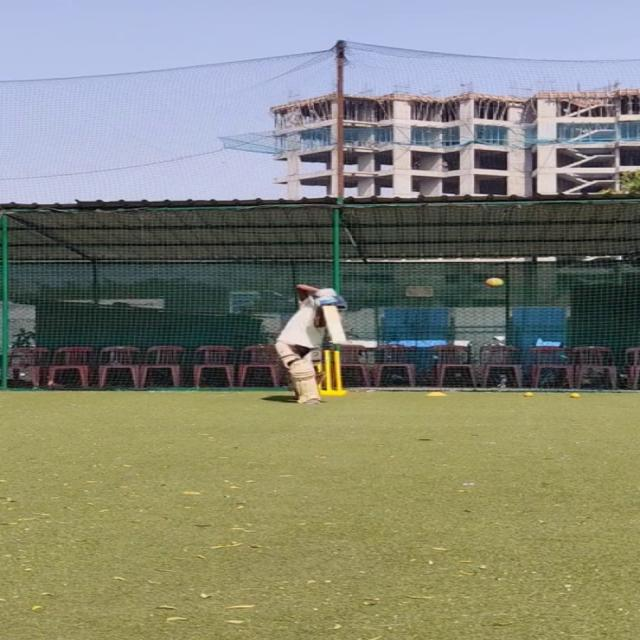ball: (486, 275, 508, 287), (570, 391, 583, 398), (521, 391, 537, 396)
stump: (321, 350, 347, 395)
